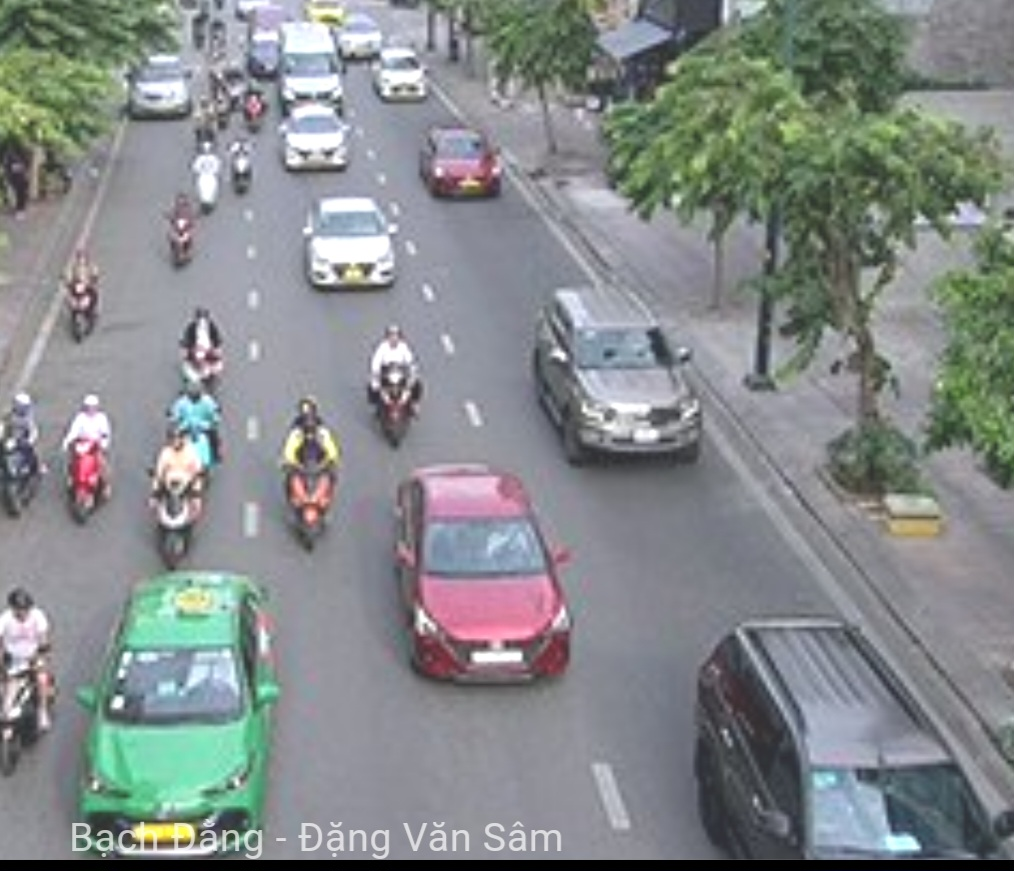car: (695, 614, 1006, 859), (75, 571, 266, 851), (391, 466, 577, 690), (534, 291, 707, 462), (305, 194, 398, 293), (422, 123, 505, 203), (277, 27, 344, 112), (279, 109, 349, 172), (128, 54, 190, 123), (375, 47, 430, 104)
